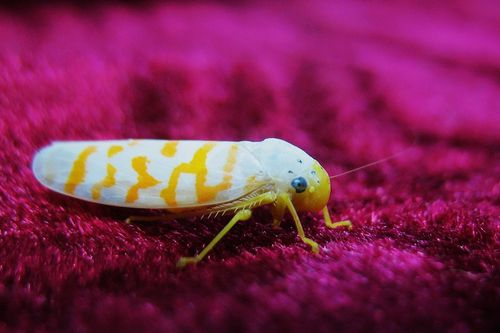Cicadellidae: (31, 137, 334, 261)
